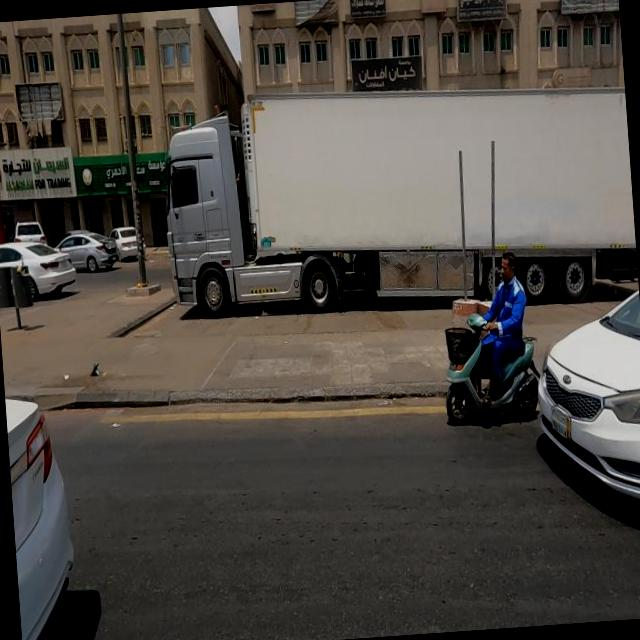debris: (522, 0, 621, 48), (269, 0, 364, 45)
